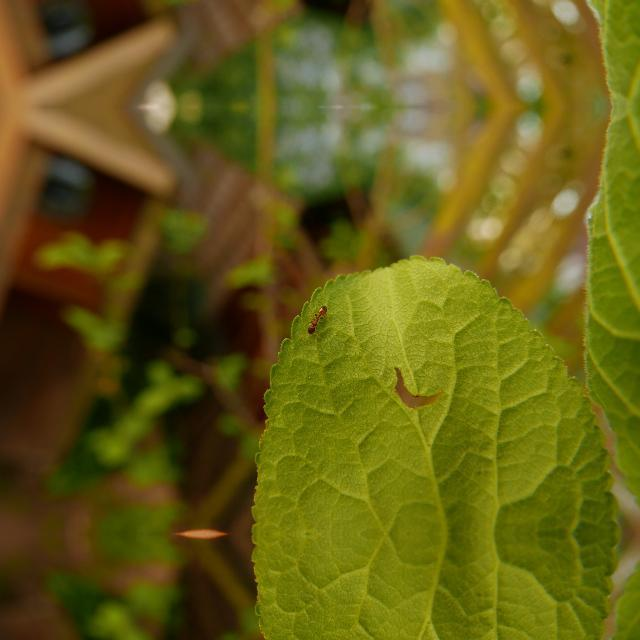Temnothorax: (298, 302, 334, 336)
